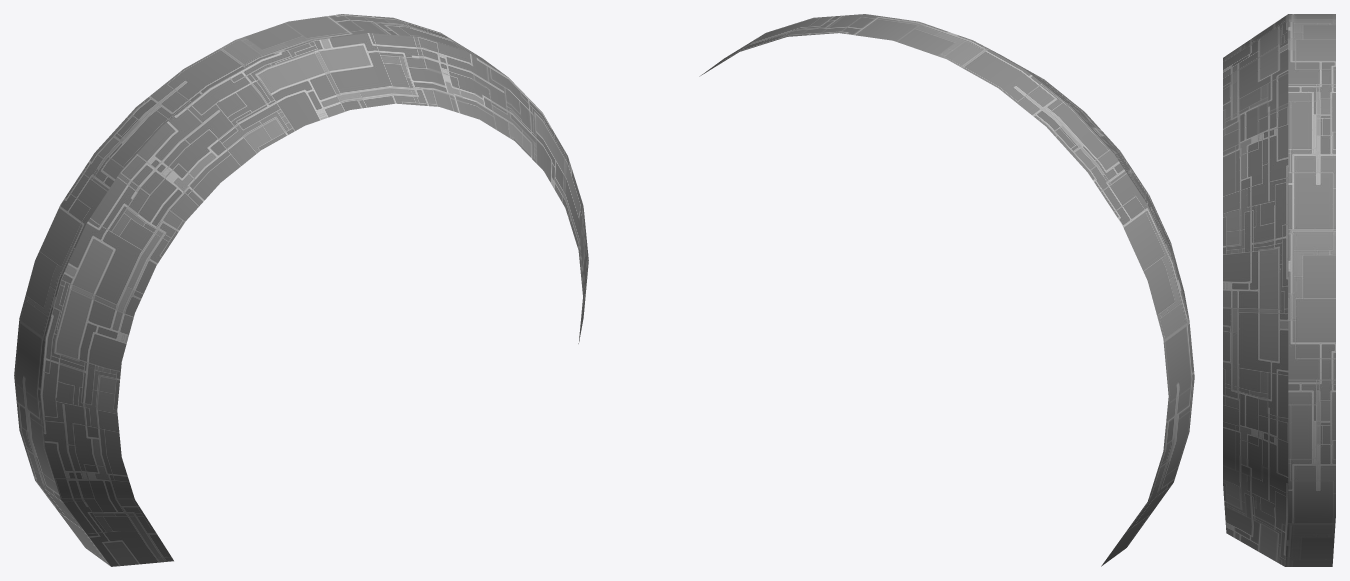
The model's file is SM_arch_02.glb.
3 views of the same model, side by side, from view 1: azimuth 30°, elevation 25°; view 2: azimuth 150°, elevation 25°; view 3: azimuth 270°, elevation 25° (orthographic). The views are drawn at different scales.
Visible parts, largest first — view 1: SM_arch_02; view 2: SM_arch_02; view 3: SM_arch_02.
Part boxes in pixels (bbox=[...]): SM_arch_02: bbox=[14, 14, 588, 566]; SM_arch_02: bbox=[699, 14, 1194, 566]; SM_arch_02: bbox=[1223, 14, 1335, 566].
Bounding box in the file's own units: 7.26 × 6 × 1.41.
2 materials, 2 textured.
